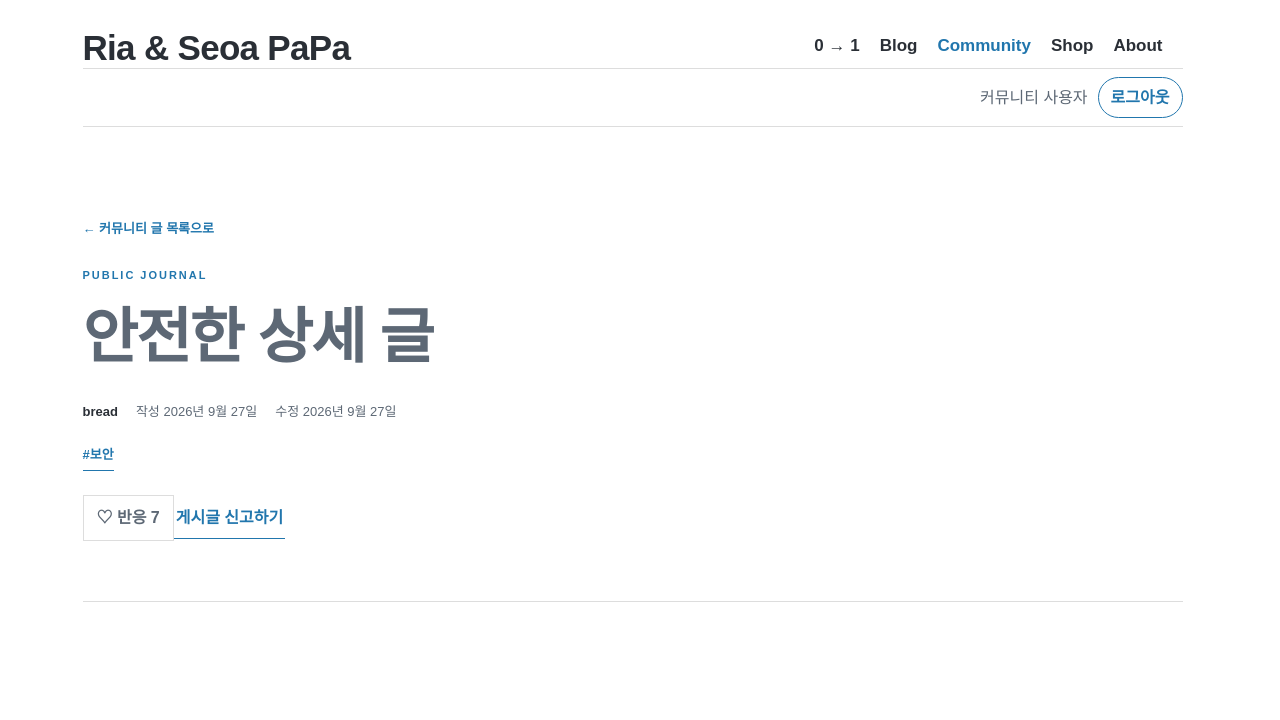
Scenario: PostDetailPage interactions › rolls back failed reaction and retries the same desired state
Click the button with aria-label "반응 남기기, 현재 7개". click: click(128, 518)
box: x1=82 y1=495 x2=174 y2=541
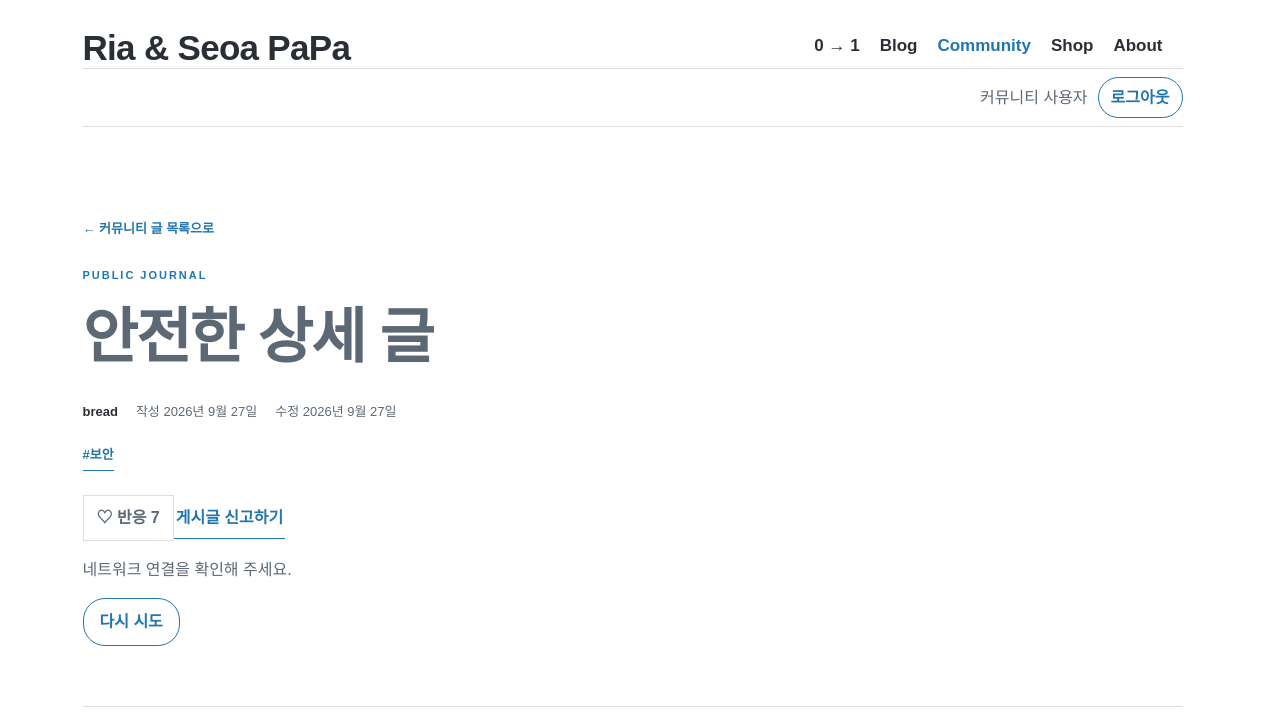
Click the button "다시 시도". click: click(131, 622)
box: x1=82 y1=598 x2=180 y2=646
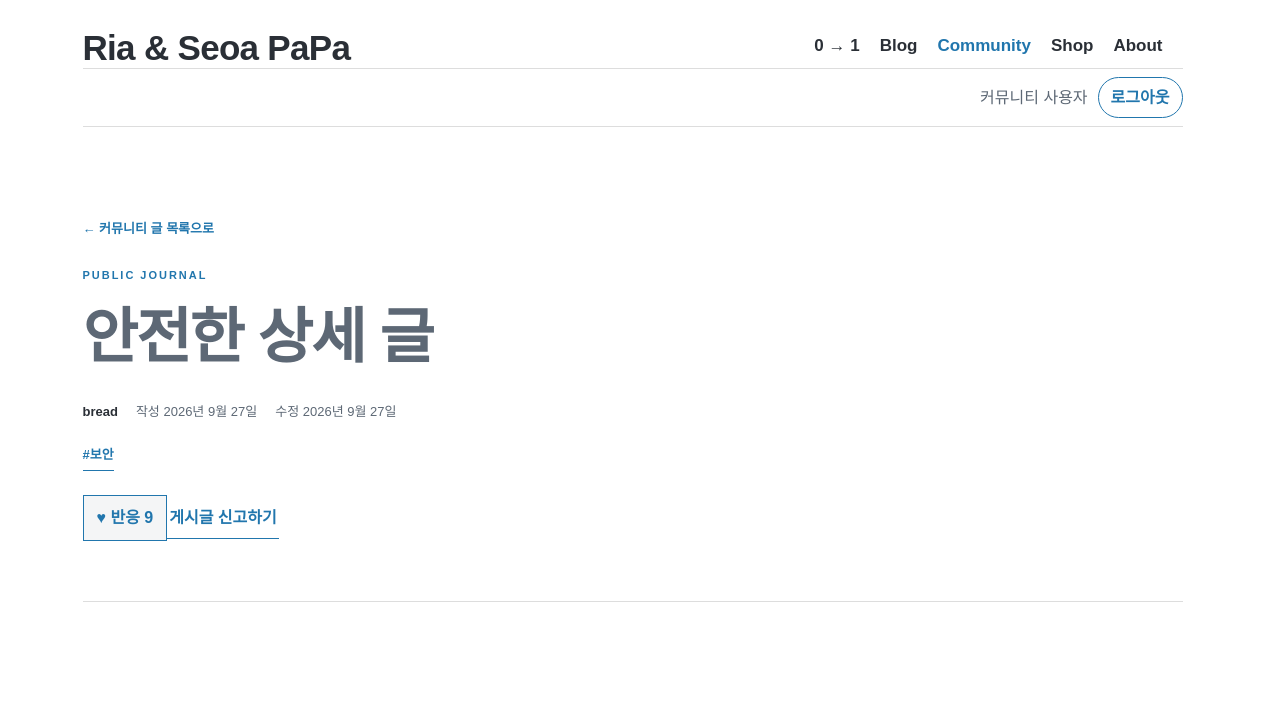
expect the button with aria-label "반응 취소, 현재 9개" is shown: met, box x1=82 y1=495 x2=167 y2=541
